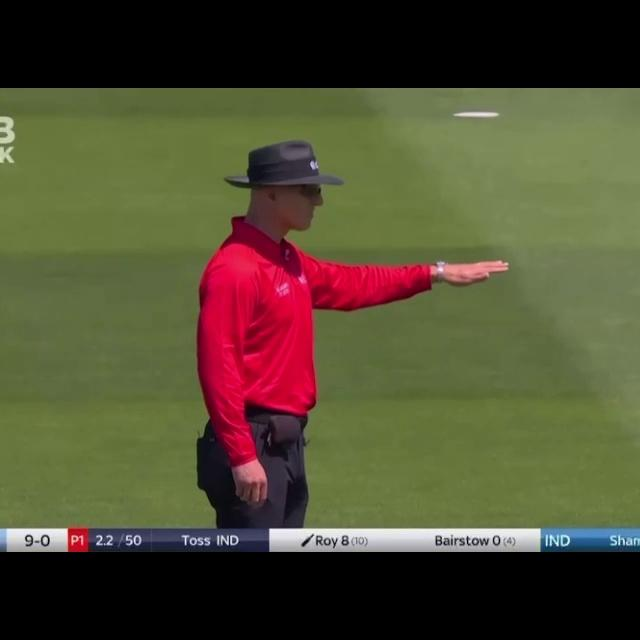umpire: (160, 125, 534, 530)
